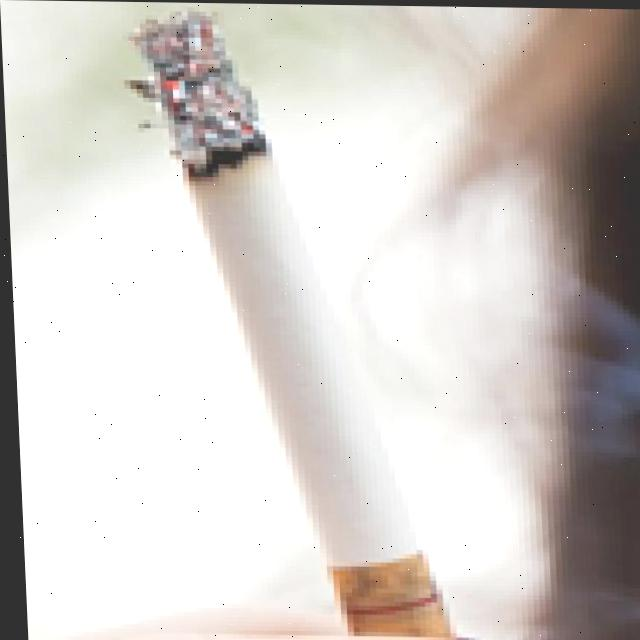cigarette: (120, 11, 442, 640)
